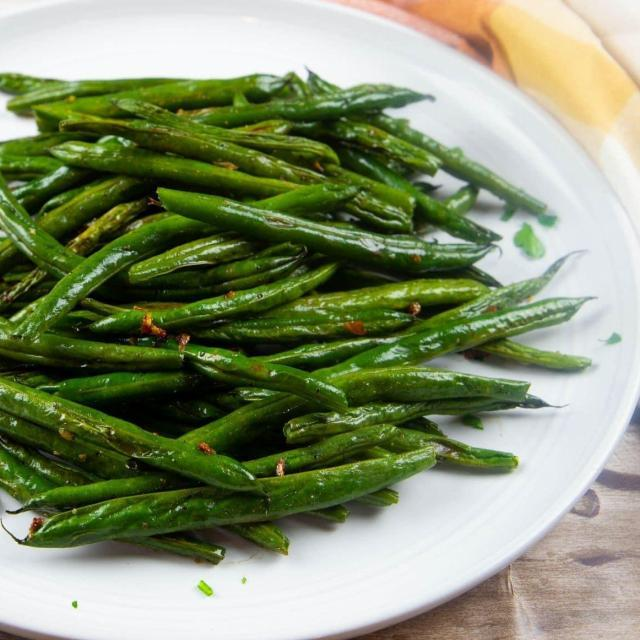Beans: (0, 37, 579, 577)
